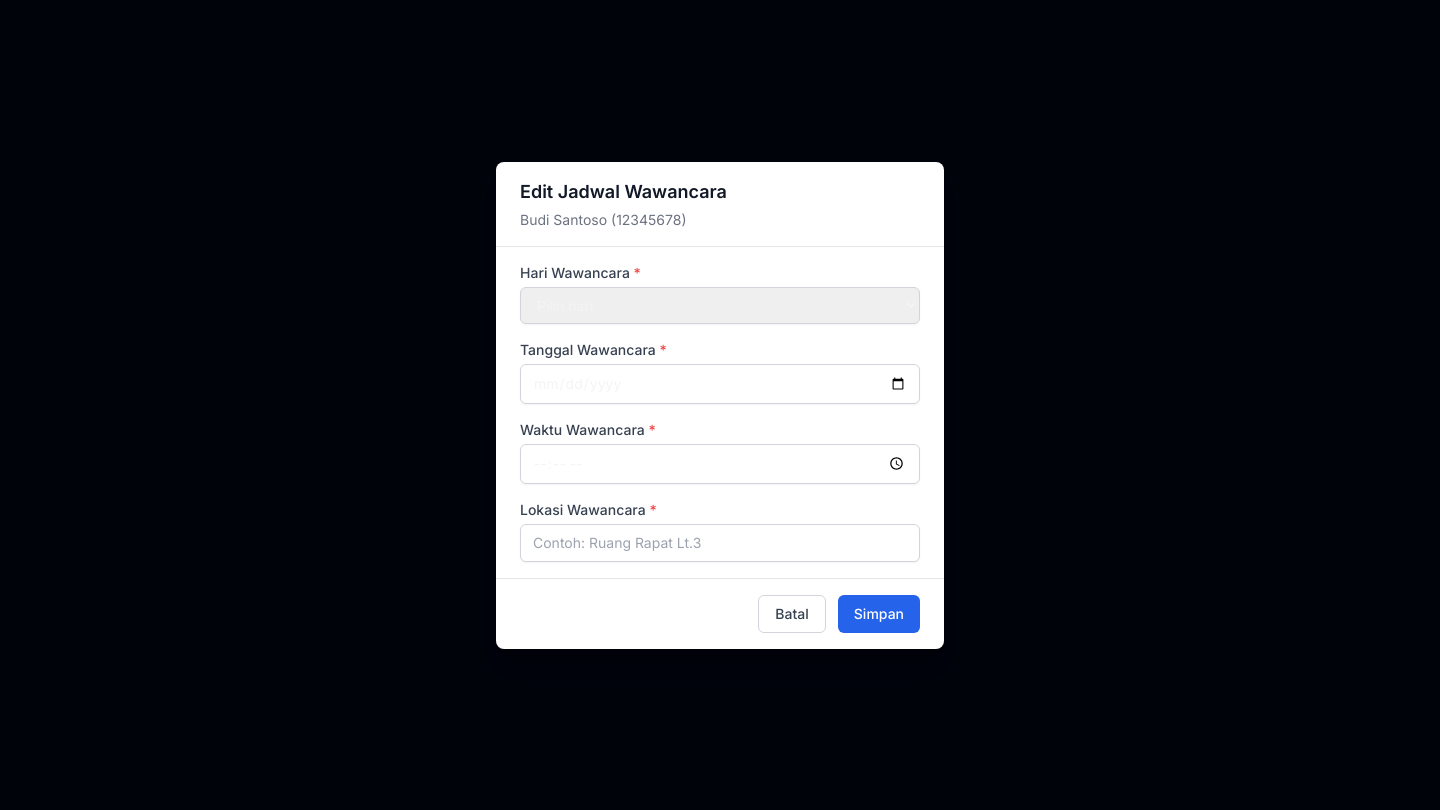
Scenario: EditJadwalModal › shows validation errors when fields are empty
Click the button "Simpan": {"x": 879, "y": 614} [838, 594, 920, 632]
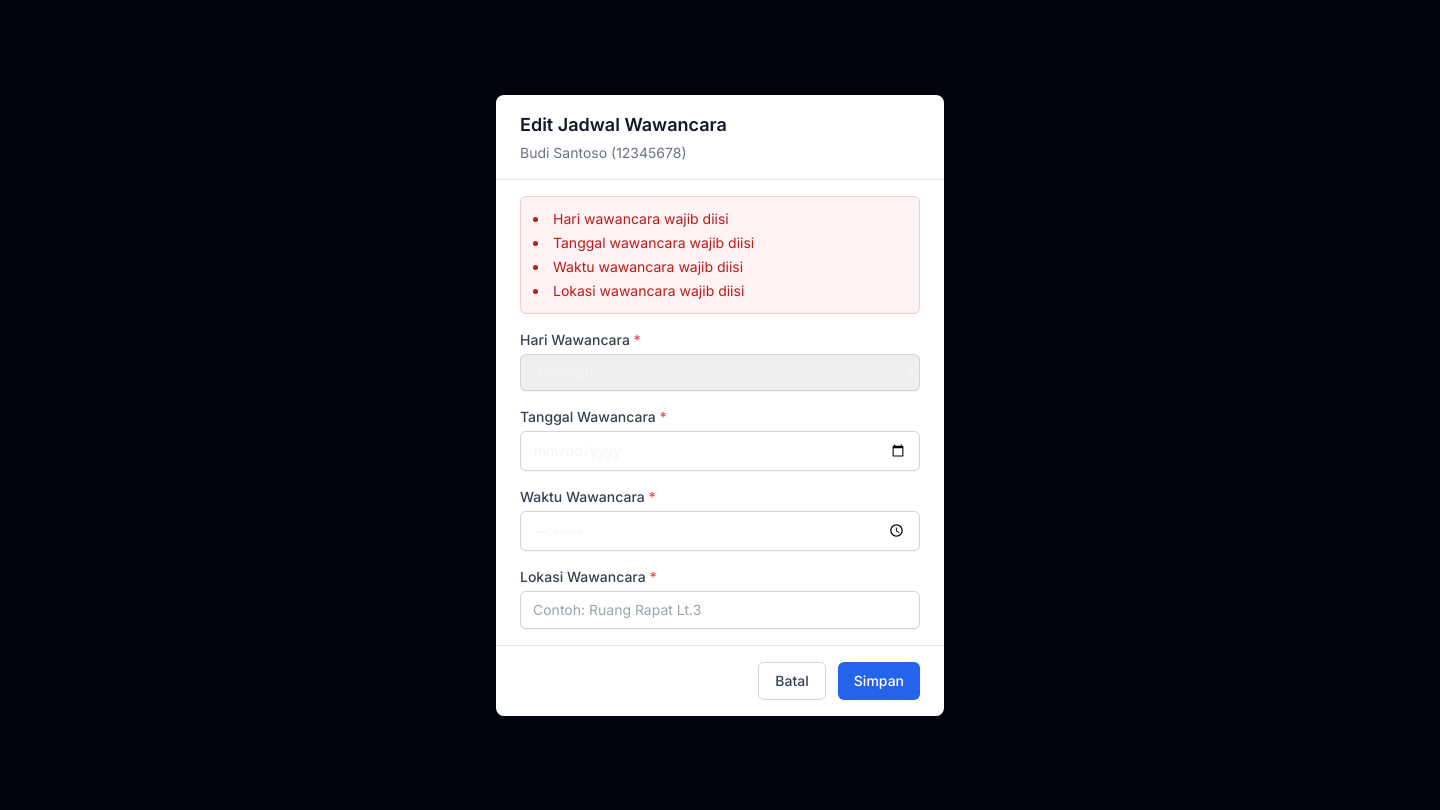
Result: the list item "Hari wawancara wajib diisi" is shown at [553, 210, 729, 226]
Result: the list item "Tanggal wawancara wajib diisi" is shown at [553, 234, 754, 250]
Result: the list item "Waktu wawancara wajib diisi" is shown at [553, 258, 743, 274]
